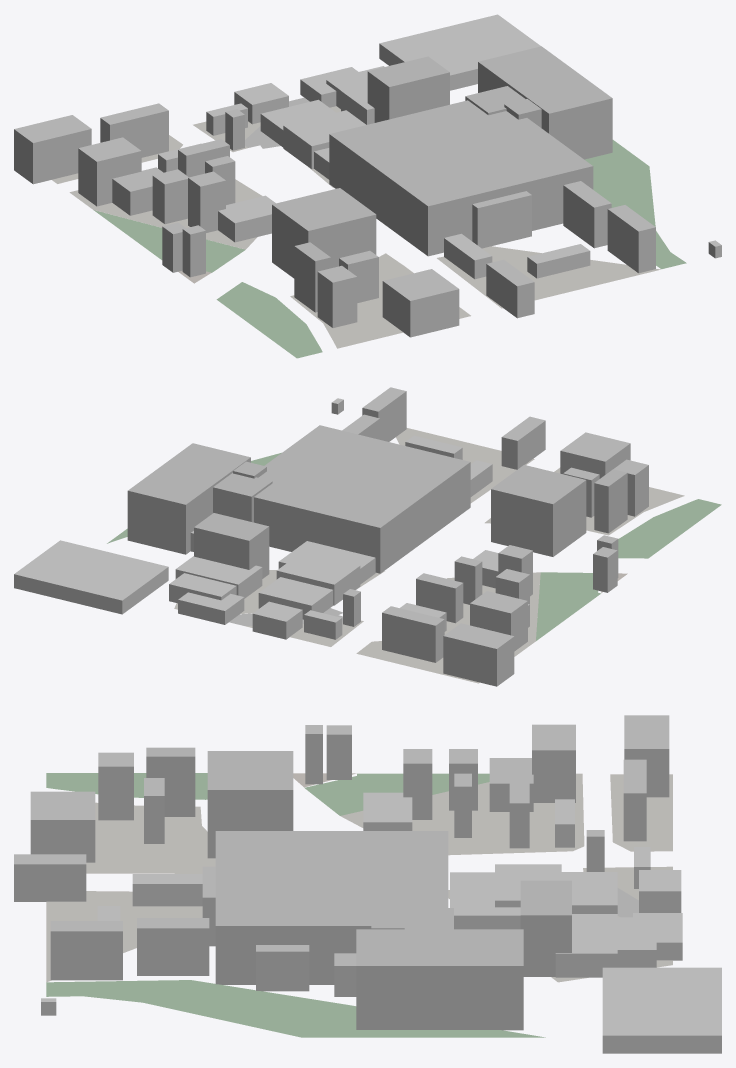
The model's file is 104_106_mid.glb.
The picture shows the model from 3 angles, top to bottom: view 1: azimuth 30°, elevation 25°; view 2: azimuth 150°, elevation 25°; view 3: azimuth 270°, elevation 25°; orthographic projection. The views are drawn at different scales.
Size of the model in its own units: 549 by 60.94 by 565.
